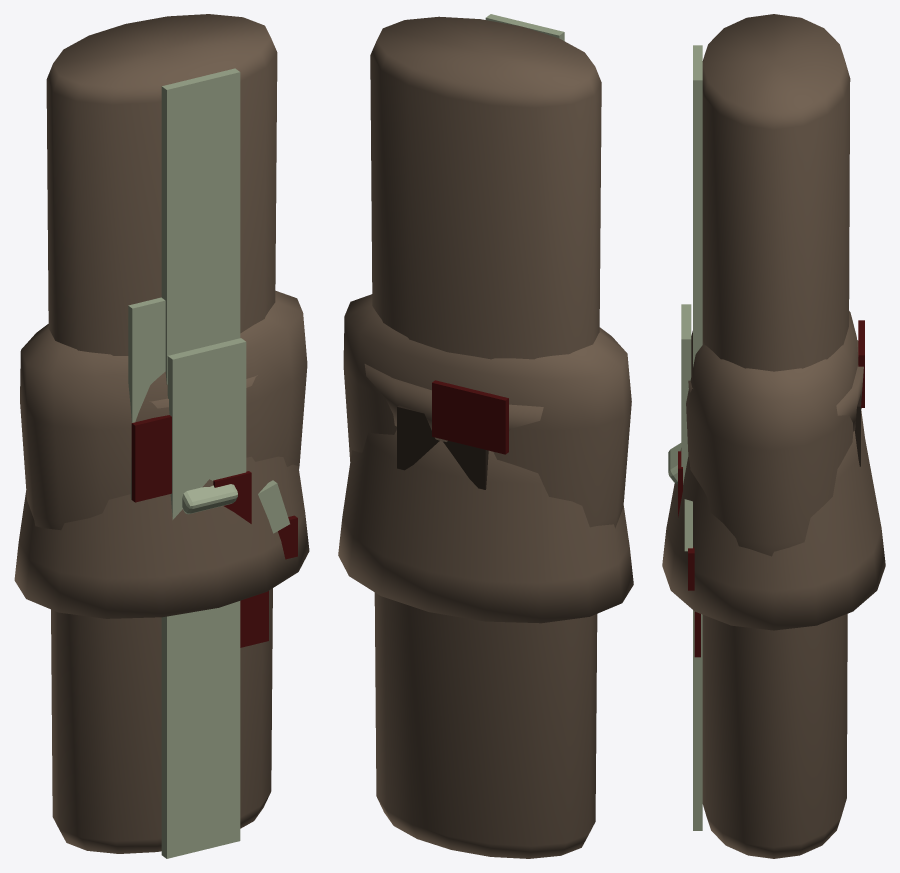
The model's file is zombie.glb.
3 views of the same model, side by side, from view 1: azimuth 30°, elevation 25°; view 2: azimuth 150°, elevation 25°; view 3: azimuth 270°, elevation 25° (orthographic). The views are drawn at different scales.
Parts seen in each view (by area): view 1: abdomen, brute_abdomen, brute_chest, screamer_pelvis, chest, hand; view 2: abdomen, screamer_pelvis, brute_chest, chest, head, pelvis; view 3: abdomen, brute_chest, screamer_pelvis, brute_abdomen, chest, pelvis.
Part boxes in pixels (left/top/right/bottom): abdomen: left=46, top=14, right=277, bottom=853; brute_abdomen: left=161, top=68, right=240, bottom=858; brute_chest: left=20, top=290, right=307, bottom=530; screamer_pelvis: left=14, top=456, right=309, bottom=618; chest: left=131, top=415, right=297, bottom=559; hand: left=182, top=484, right=237, bottom=514; abdomen: left=370, top=16, right=601, bottom=858; screamer_pelvis: left=338, top=429, right=633, bottom=623; brute_chest: left=343, top=294, right=631, bottom=528; chest: left=432, top=380, right=508, bottom=454; head: left=397, top=405, right=488, bottom=489; pelvis: left=364, top=364, right=543, bottom=441; abdomen: left=694, top=14, right=850, bottom=858; brute_chest: left=678, top=304, right=858, bottom=556; screamer_pelvis: left=662, top=410, right=885, bottom=630; brute_abdomen: left=693, top=45, right=702, bottom=830; chest: left=684, top=320, right=864, bottom=590; pelvis: left=688, top=340, right=863, bottom=431.
Bounding box in the file's own units: 0.372 × 1 × 0.27.
